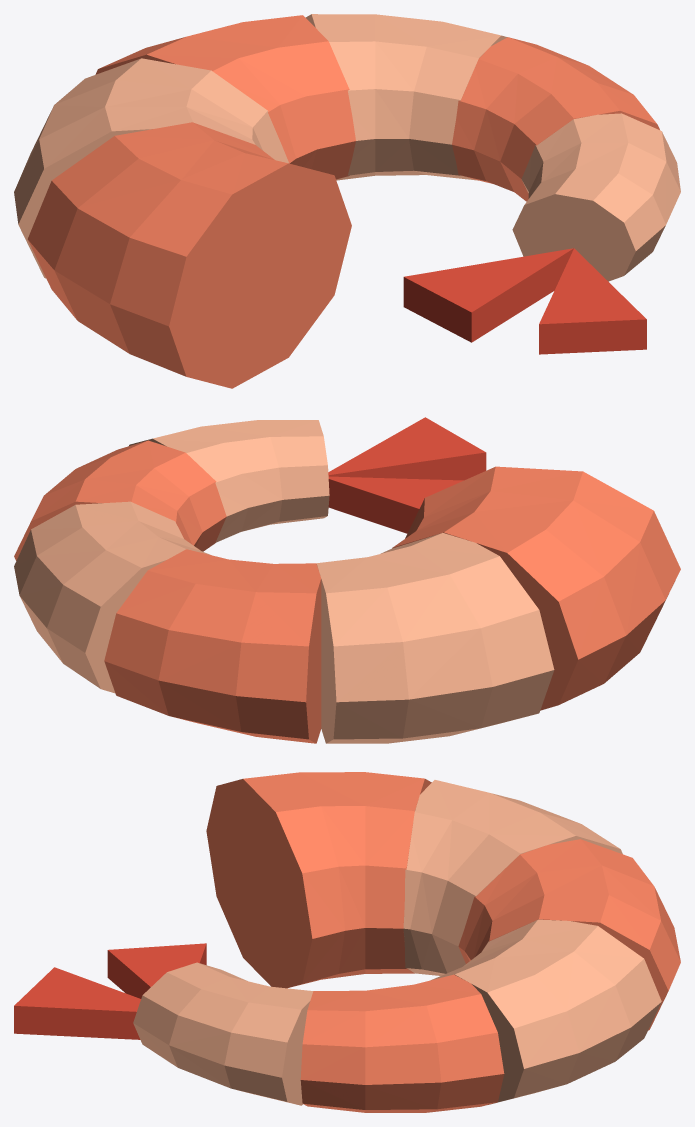
Rendered from Shrimp.fbx.
3 views of the same model, one above another, from view 1: azimuth 30°, elevation 25°; view 2: azimuth 150°, elevation 25°; view 3: azimuth 270°, elevation 25° (orthographic). The views are drawn at different scales.
Visible parts, largest first — view 1: Top_FF8460, Top_FFB894, Top_E8503A; view 2: Top_FF8460, Top_FFB894, Top_E8503A; view 3: Top_FF8460, Top_FFB894, Top_E8503A.
Part boxes in pixels (x1,y1,x2,y2): Top_FF8460: (27,15,659,388); Top_FFB894: (14,14,680,281); Top_E8503A: (403,248,646,354); Top_FF8460: (14,440,680,743); Top_FFB894: (14,420,554,743); Top_E8503A: (328,417,486,533); Top_FF8460: (206,772,680,1112); Top_FFB894: (133,780,661,1105); Top_E8503A: (14,943,206,1039).
Size of the model in its own units: 1.89 by 0.5923 by 2.
